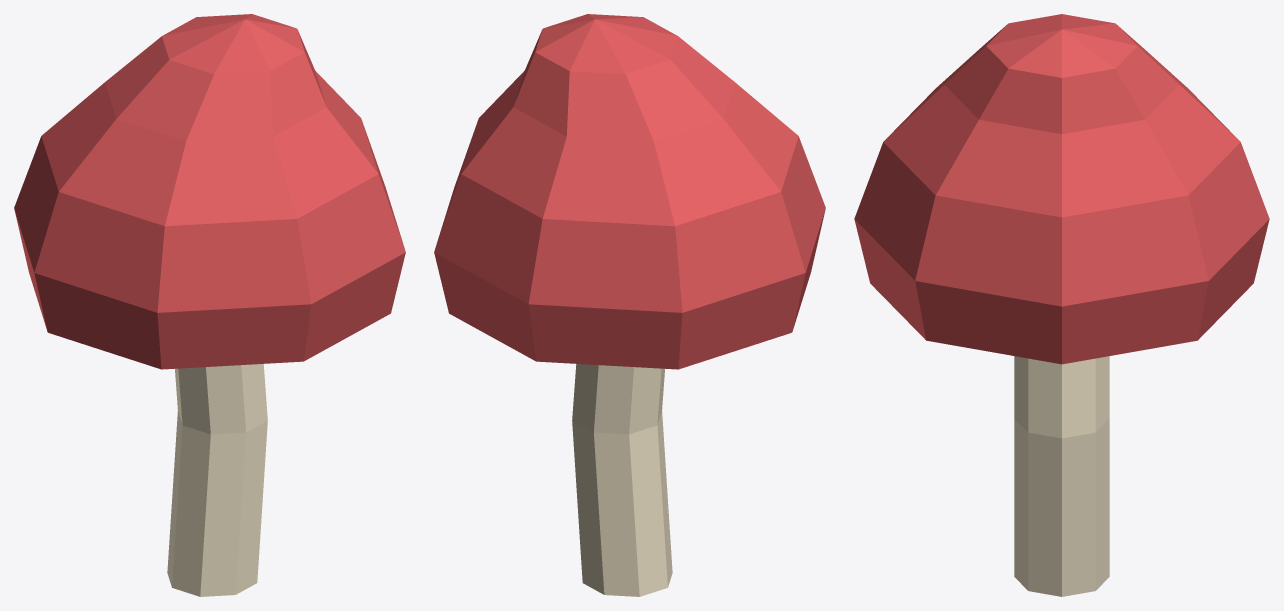
File: Mushroom.fbx
3 renders of one model, left to right at view 1: azimuth 30°, elevation 25°; view 2: azimuth 150°, elevation 25°; view 3: azimuth 270°, elevation 25°, orthographic. The views are drawn at different scales.
Visible parts, largest first — view 1: Mushroom; view 2: Mushroom; view 3: Mushroom.
Boxes of the visible parts, left/top/right/bottom form: Mushroom: left=14, top=14, right=405, bottom=596; Mushroom: left=434, top=14, right=825, bottom=596; Mushroom: left=854, top=14, right=1269, bottom=596.
Bounding box in the file's own units: 200 × 300 × 200.
